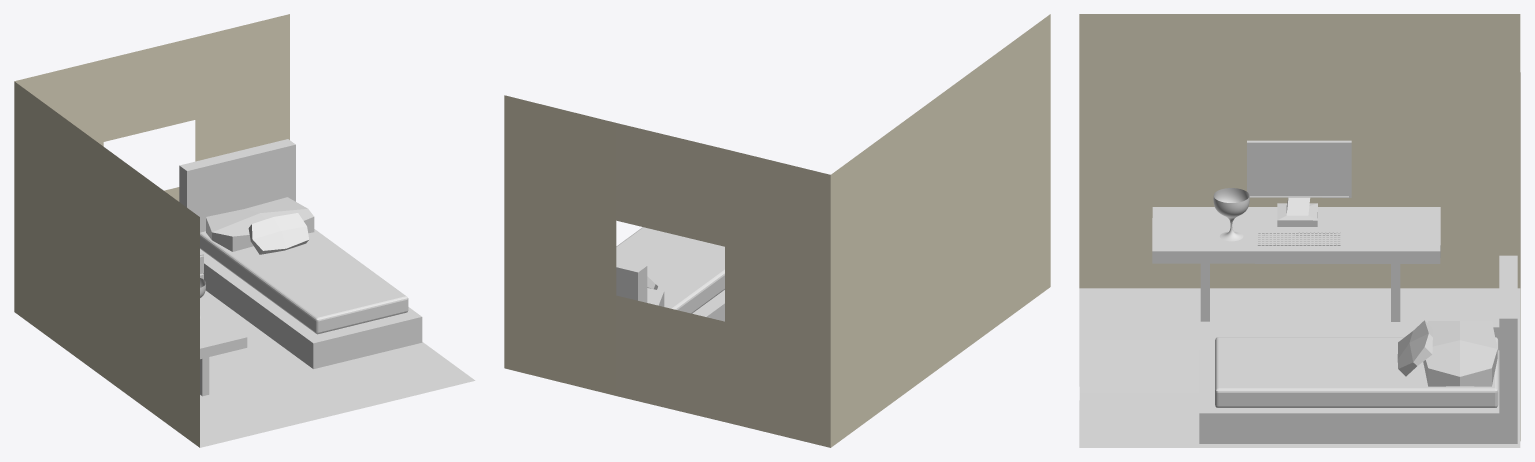
Rendered from room_fin.fbx.
3 views of the same model, side by side, from view 1: azimuth 30°, elevation 25°; view 2: azimuth 150°, elevation 25°; view 3: azimuth 270°, elevation 25° (orthographic). The views are drawn at different scales.
Visible parts, largest first — view 1: Room, Bed, Mattrass, Podushka02, Podushka01, Table; view 2: Room, Mattrass, Bed; view 3: Room, Mattrass, Bed, Table, Computer, Podushka02, Tumba, Podushka01, Keyboard, Legs, Glass.
Part boxes in pixels (box(x1,y1,x2,y2)): Room: box(14, 14, 475, 447); Bed: box(179, 139, 422, 369); Mattrass: box(200, 229, 408, 334); Podushka02: box(206, 197, 314, 251); Podushka01: box(248, 213, 309, 254); Table: box(200, 303, 247, 359); Room: box(504, 14, 1050, 447); Mattrass: box(616, 227, 724, 313); Bed: box(616, 258, 724, 321); Room: box(1079, 14, 1520, 447); Mattrass: box(1215, 337, 1498, 407); Bed: box(1199, 255, 1517, 443); Table: box(1152, 207, 1440, 263); Computer: box(1247, 140, 1351, 226); Podushka02: box(1423, 321, 1497, 386); Tumba: box(1439, 299, 1499, 350); Podushka01: box(1397, 320, 1432, 376); Keyboard: box(1257, 231, 1340, 245); Legs: box(1200, 263, 1400, 321); Glass: box(1213, 188, 1249, 241).
Bounding box in the file's own units: 799 × 640 × 932.
